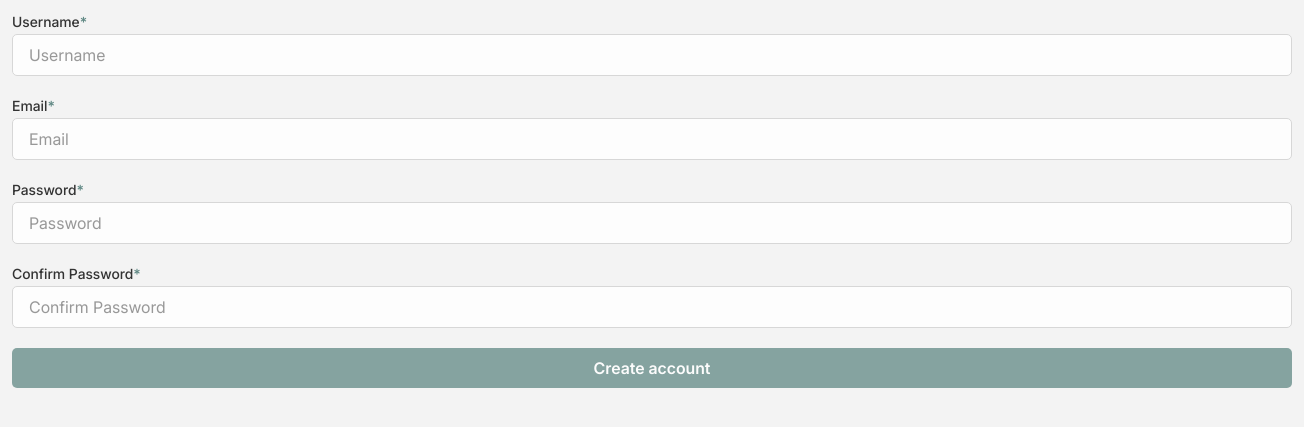
Scenario: SignUpForm.tsx › should display the correct error message if the username is taken
Type "username" into the field labelled "Username*" at (652, 55), box [12,34,1292,76]
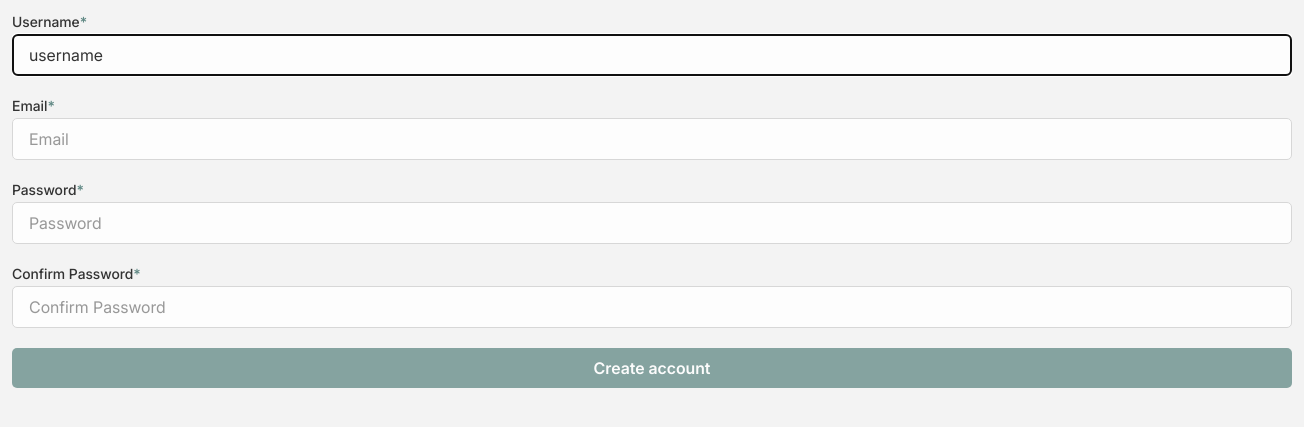
Type "email@email.com" into the field labelled "Email*" at (652, 139), box [12,118,1292,160]
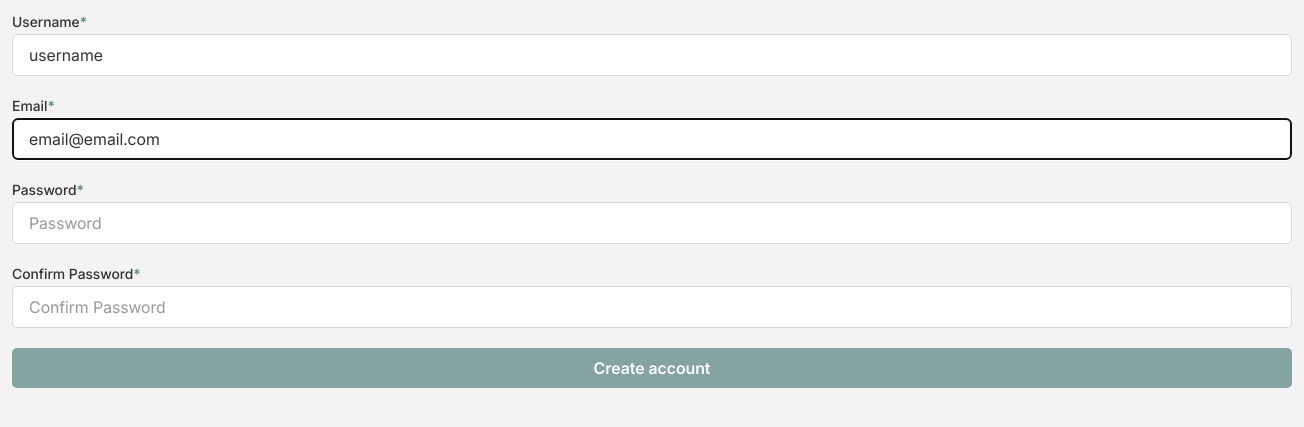
Type "!Password123" into the password field with placeholder "Password" at (652, 223), box [12,202,1292,244]
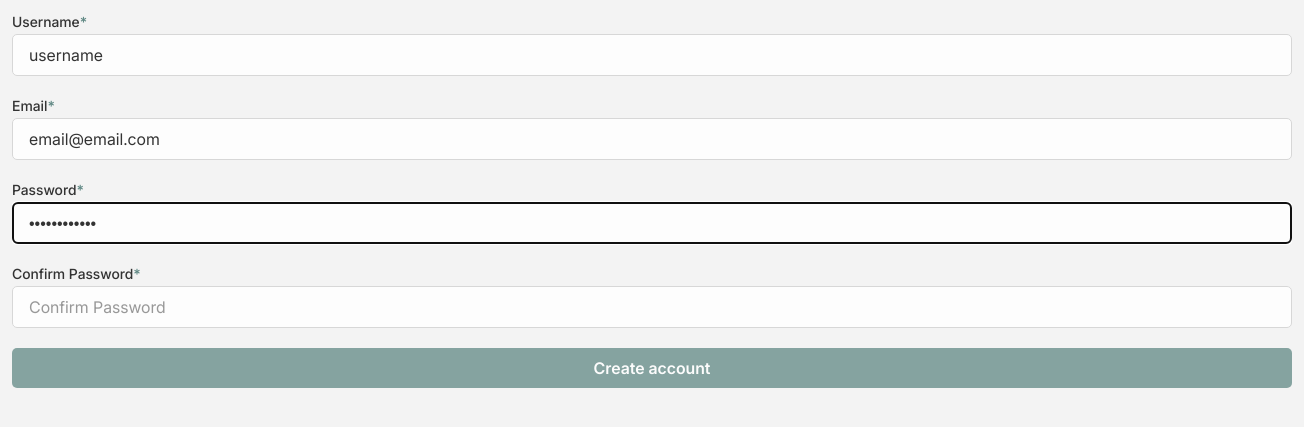
Type "!Password123" into the password field labelled "Confirm Password*" at (652, 307), box [12,286,1292,328]
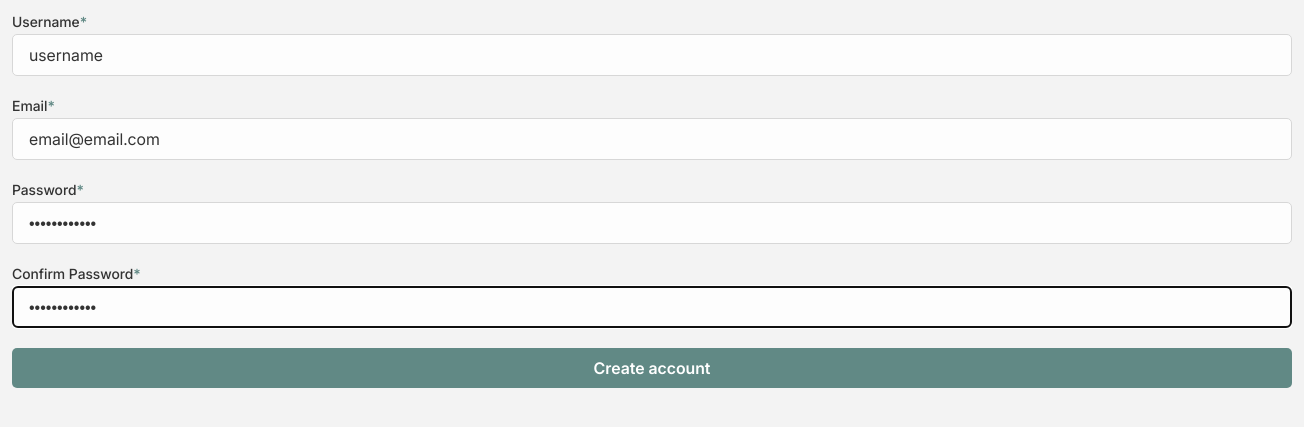
Click the button "Create account" at (652, 368), box [12,348,1292,388]
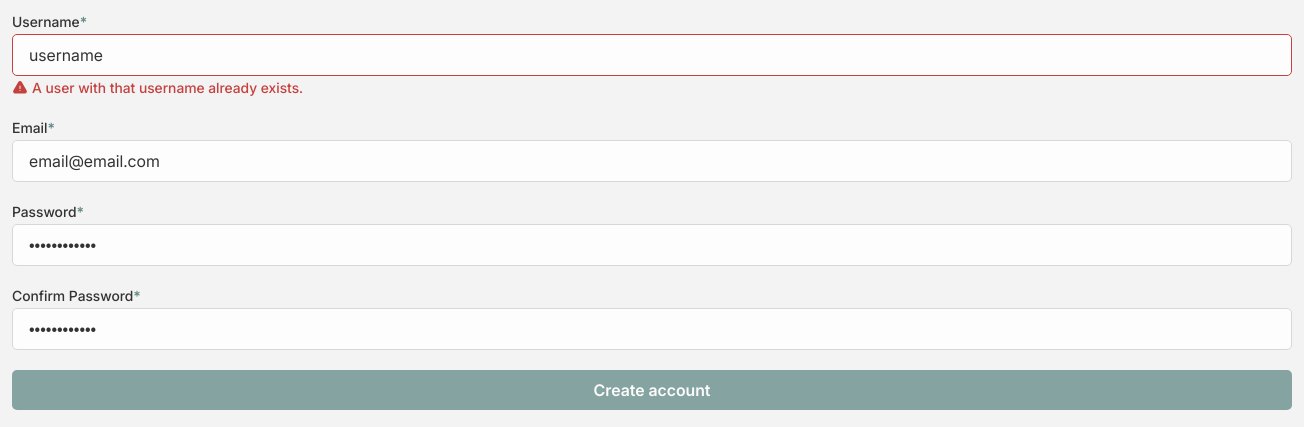
expect the text "A user with that username already exists." is shown: met, box [12,78,303,98]
